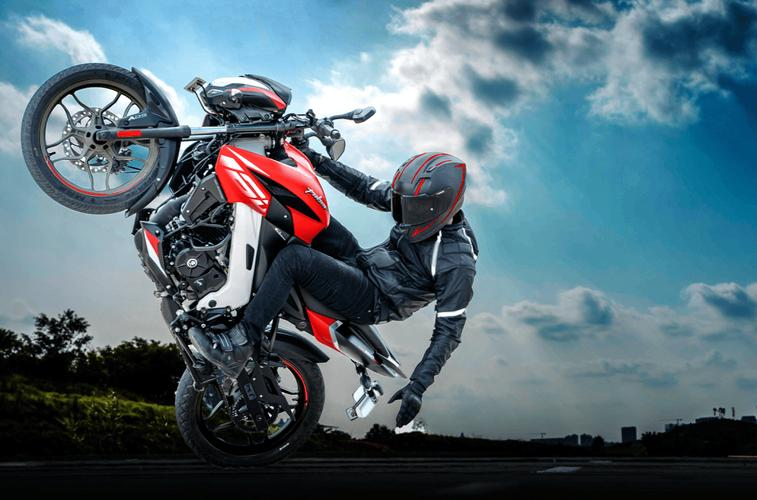摩托车: (22, 54, 348, 462)
